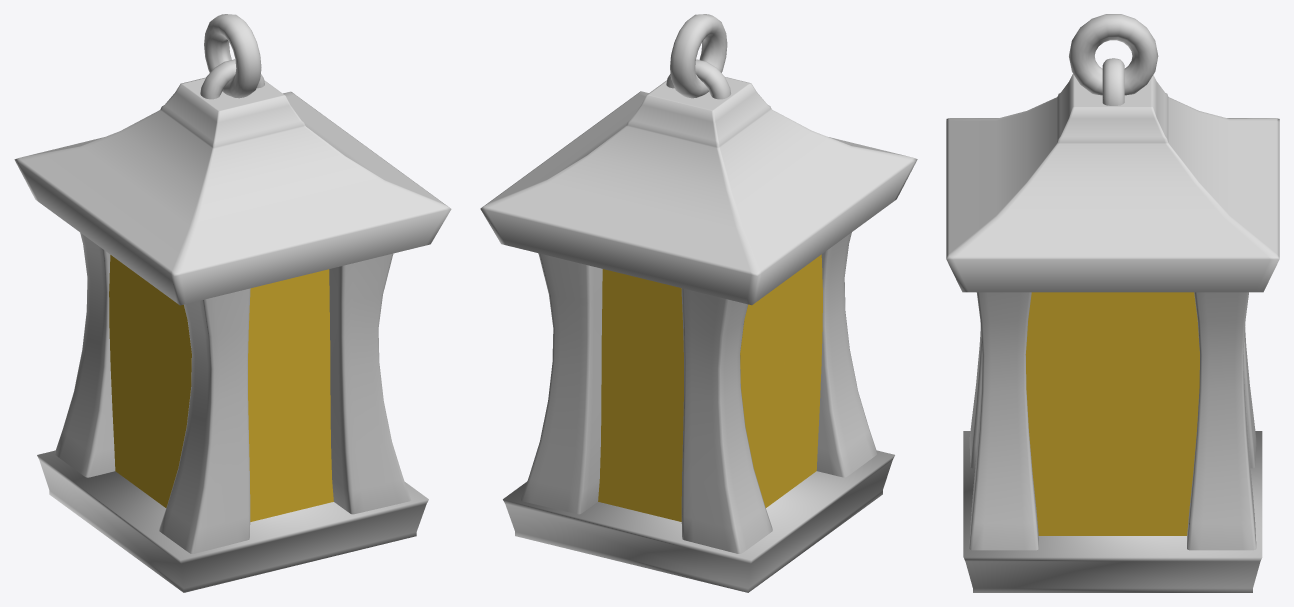
The model's file is lanternupdate.fbx.
3 views of the same model, side by side, from view 1: azimuth 30°, elevation 25°; view 2: azimuth 150°, elevation 25°; view 3: azimuth 270°, elevation 25° (orthographic). The views are drawn at different scales.
Parts seen in each view (by area): view 1: Cube.001, Cube.002, Plane.001, Plane.002, Torus.067, Torus.068; view 2: Cube.001, Cube.002, Plane.001, Plane.002, Torus.067, Torus.068; view 3: Cube.001, Plane.002, Cube.002, Torus.067, Torus.068.
Part boxes in pixels (x1,y1,x2,y2): Cube.001: (14,77,451,592); Cube.002: (55,232,410,553); Plane.001: (248,269,333,521); Plane.002: (109,255,191,507); Torus.067: (204,14,261,98); Torus.068: (200,59,264,99); Cube.001: (480,77,917,592); Cube.002: (521,232,877,553); Plane.001: (598,269,683,521); Plane.002: (740,254,822,507); Torus.067: (670,14,727,98); Torus.068: (666,59,730,99); Cube.001: (946,74,1279,592); Plane.002: (1025,292,1199,535); Cube.002: (969,292,1256,550); Torus.067: (1069,14,1158,95); Torus.068: (1102,58,1124,105).
Size of the model in its own units: 103 by 177 by 103.
